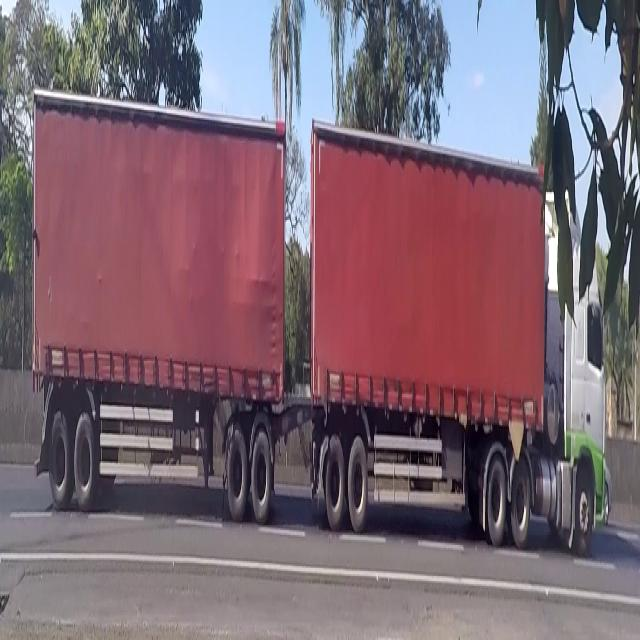-axle: (484, 445, 509, 551), (572, 462, 597, 562), (73, 415, 97, 516), (347, 436, 370, 532), (226, 427, 249, 522), (511, 452, 533, 551), (252, 431, 274, 523), (50, 413, 70, 511), (324, 436, 345, 525)
